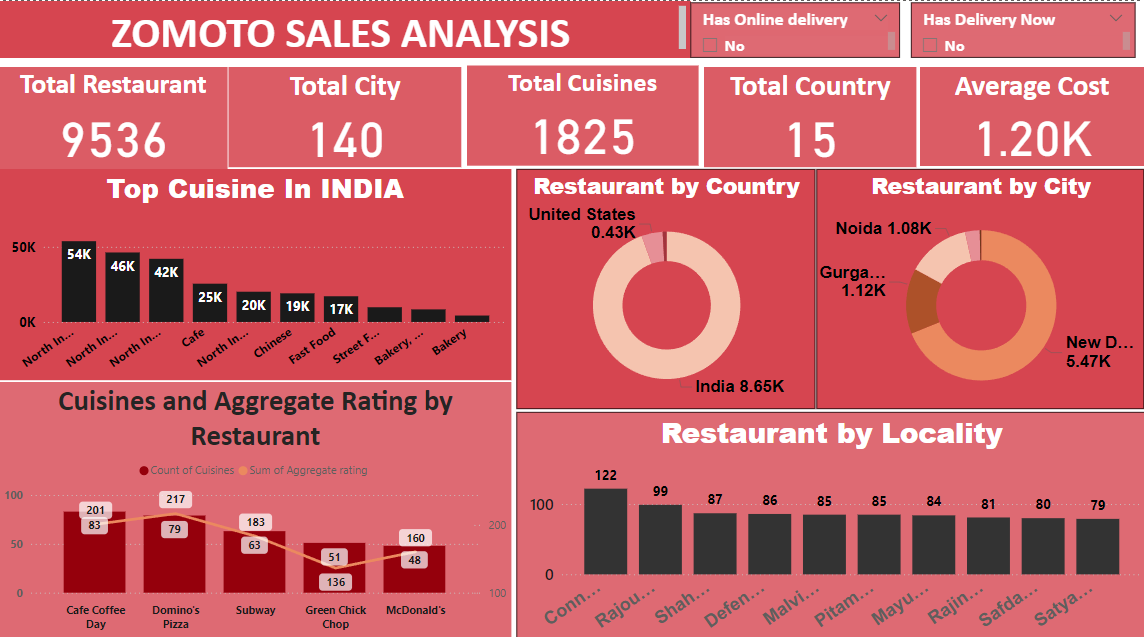

The page's visual inventory and layout, read from the dashboard file:
{"tool":"powerbi","page":{"name":"Page 2","canvas":[1280,720],"ordinal":1},"visuals":[{"type":"card","title":"Total Cuisines","fields":{"Values":["Count(Clean Zamoto Data.Cuisines)"]},"box":[525.8,71.2,257.3,111.6],"z":0},{"type":"card","title":"Total City","fields":{"Values":["Count(Clean Zamoto Data.City)"]},"box":[262.1,72.8,258.9,111.6],"z":1000},{"type":"card","title":"Average Cost","fields":{"Values":["Avg(Clean Zamoto Data.Average Cost for two)"]},"box":[1030.7,72.8,249.2,110],"z":2000},{"type":"card","title":"Total Country","fields":{"Values":["Count(Clean Zamoto Data.Country)"]},"box":[789.6,72.8,236.2,111.6],"z":3000},{"type":"card","title":"Total Restaurant","fields":{"Values":["CountNonNull(Clean Zamoto Data.Restaurant Name)"]},"box":[6.5,72.8,254,113.3],"z":4000},{"type":"clusteredColumnChart","title":"Restaurant by Locality","fields":{"Category":["Clean Zamoto Data.Locality"],"Y":["CountNonNull(Clean Zamoto Data.Restaurant Name)"]},"box":[581,456.3,699,252.4],"z":5000},{"type":"donutChart","title":"Restaurant by Country","fields":{"Category":["Clean Zamoto Data.Country"],"Y":["CountNonNull(Clean Zamoto Data.Restaurant Name)"]},"box":[580.9,186.1,331.7,267],"z":6000},{"type":"donutChart","title":"Restaurant by City","fields":{"Category":["Clean Zamoto Data.City"],"Y":["CountNonNull(Clean Zamoto Data.Restaurant Name)"]},"box":[915.8,186.1,364,267],"z":7000},{"type":"textbox","box":[6.5,0,768.5,63.1],"z":8000},{"type":"slicer","fields":{"Values":["Clean Zamoto Data.Has Online delivery"]},"box":[775,1.6,233,61.5],"z":9000},{"type":"slicer","fields":{"Values":["Clean Zamoto Data.Is delivering now"]},"box":[1019.3,1.6,249.2,61.5],"z":10000},{"type":"columnChart","title":"Top Cuisine In INDIA","fields":{"Category":["Clean Zamoto Data.Cuisines"],"Y":["Sum(Clean Zamoto Data.Votes)"]},"box":[6.5,186.1,569.5,234.6],"z":11000},{"type":"lineStackedColumnComboChart","title":"Cuisines and Aggregate Rating by Restaurant","fields":{"Category":["Clean Zamoto Data.Restaurant Name"],"Y":["CountNonNull(Clean Zamoto Data.Cuisines)"],"Y2":["Sum(Clean Zamoto Data.Aggregate rating)"]},"box":[6.5,423.9,569.5,284.8],"z":12000}]}

Visuals, with their boxes in screenshot pixels (x1, y1, x2, y2), scaled from the page's 1280x720 canvas onto the 1144x637 screenshot:
"Total Cuisines" card: 470:63:700:162
"Total City" card: 234:64:466:163
"Average Cost" card: 921:64:1143:162
"Total Country" card: 706:64:917:163
"Total Restaurant" card: 6:64:233:165
"Restaurant by Locality" clusteredColumnChart: 519:404:1143:627
"Restaurant by Country" donutChart: 519:165:816:401
"Restaurant by City" donutChart: 818:165:1143:401
textbox: 6:0:693:56
slicer - Clean Zamoto Data.Has Online delivery: 693:1:901:56
slicer - Clean Zamoto Data.Is delivering now: 911:1:1134:56
"Top Cuisine In INDIA" columnChart: 6:165:515:372
"Cuisines and Aggregate Rating by Restaurant" lineStackedColumnComboChart: 6:375:515:627
